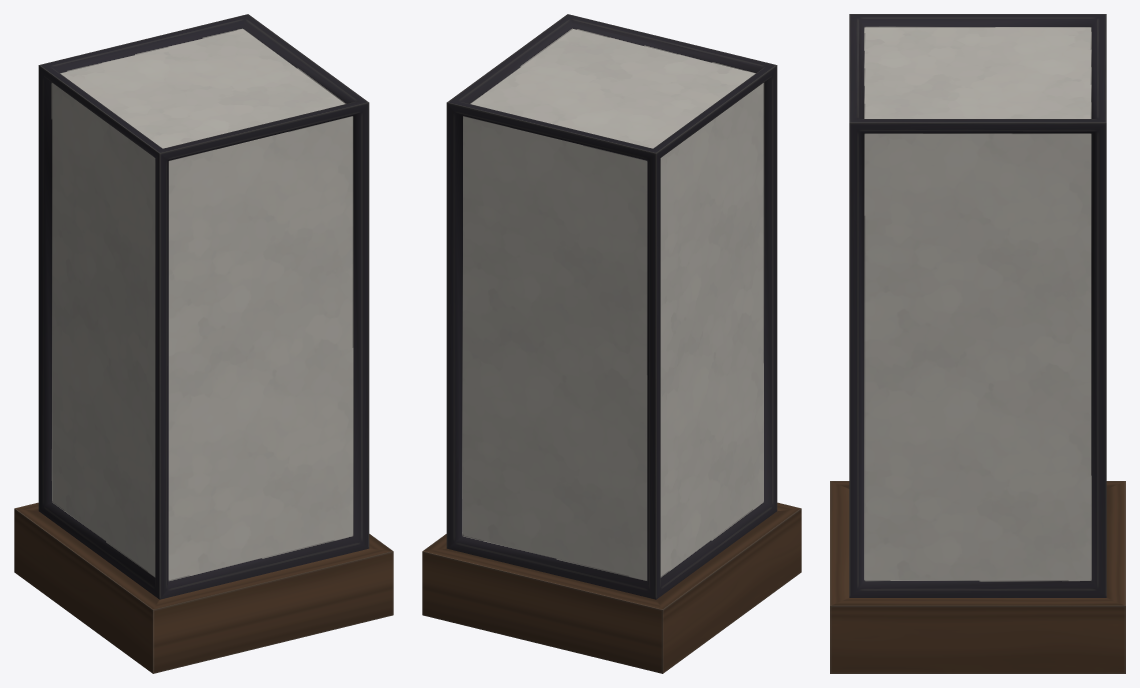
The model's file is L2ENV_Lamp_Square.fbx.
3 renders of one model, left to right at view 1: azimuth 30°, elevation 25°; view 2: azimuth 150°, elevation 25°; view 3: azimuth 270°, elevation 25°, orthographic. The views are drawn at different scales.
Visible parts, largest first — view 1: Lamp_Square; view 2: Lamp_Square; view 3: Lamp_Square.
Part boxes in pixels (x1,y1,x2,y2): Lamp_Square: (14,14,393,673); Lamp_Square: (422,14,801,673); Lamp_Square: (830,14,1125,673).
Bounding box in the file's own units: 32.7 × 32.7 × 66.23.
